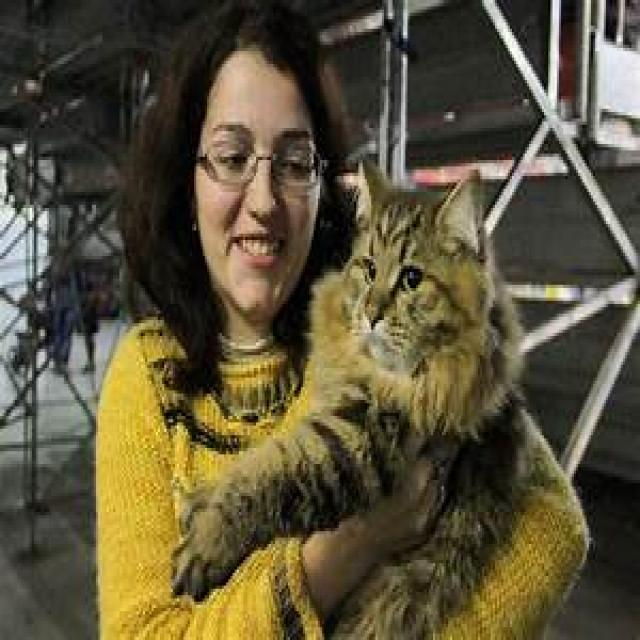cat: (177, 161, 539, 624)
